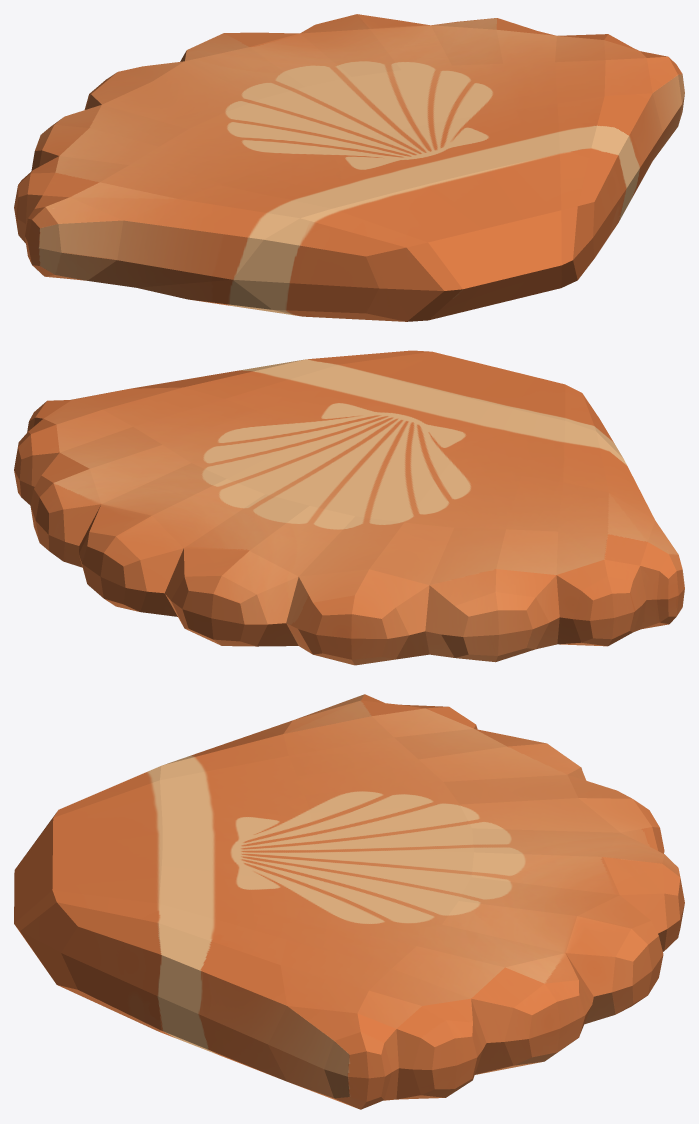
File: shell3.glb
3 renders of one model, top to bottom at view 1: azimuth 30°, elevation 25°; view 2: azimuth 150°, elevation 25°; view 3: azimuth 270°, elevation 25°, orthographic. The views are drawn at different scales.
Visible parts, largest first — view 1: shell.002; view 2: shell.002; view 3: shell.002.
Boxes of the visible parts, x1=… form: shell.002: x1=14, y1=14, x2=684, y2=321; shell.002: x1=14, y1=350, x2=684, y2=665; shell.002: x1=14, y1=694, x2=684, y2=1109.
Bounding box in the file's own units: 2.52 × 0.3783 × 2.02.
Materials: 1 (1 with a texture image).
